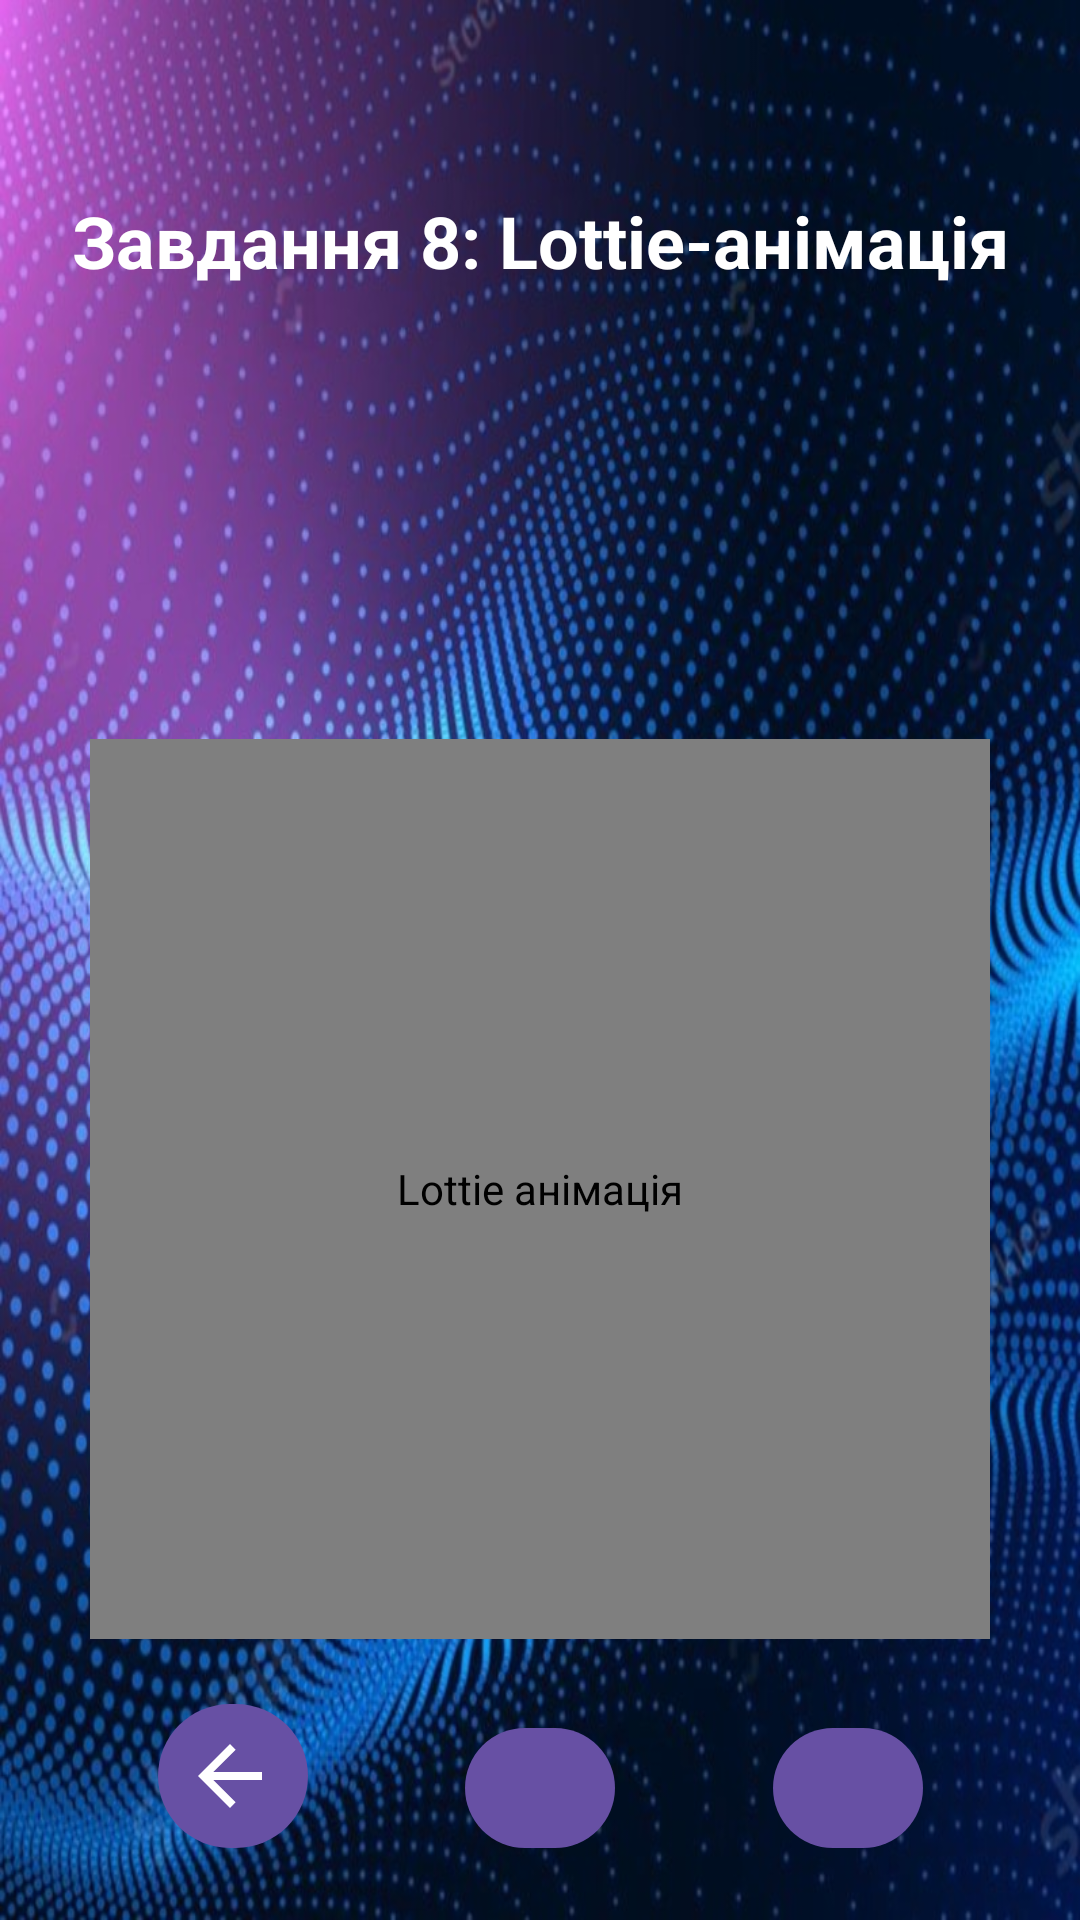

Where to tap for icons on this 1080×1920 app screen, as [x,y]:
Повернутися назад: [233,1776]
